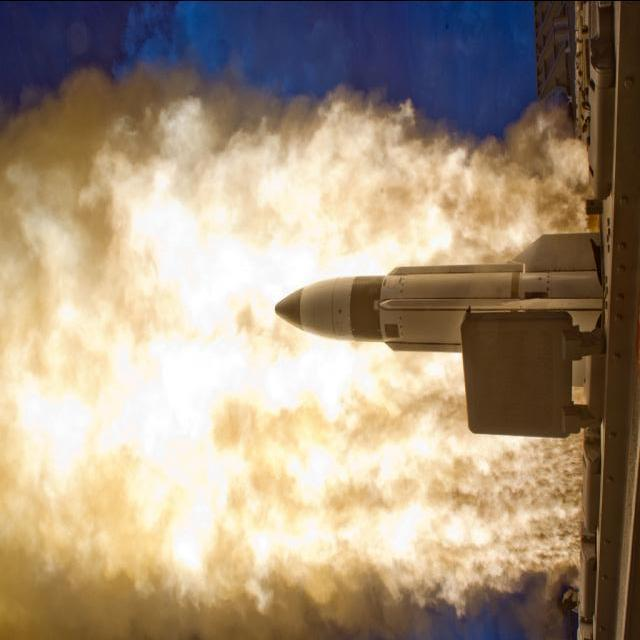Missile: (253, 262, 598, 354), (375, 294, 530, 310)
